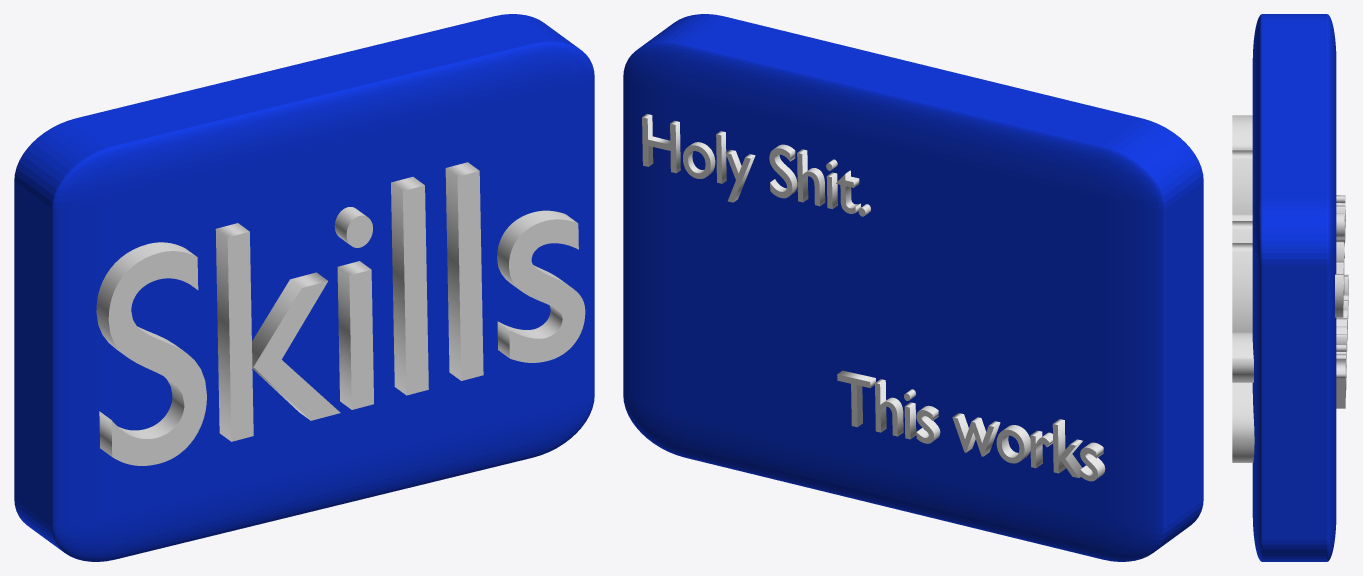
File: TestModel.glb
The picture shows the model from 3 angles, left to right: view 1: azimuth 30°, elevation 25°; view 2: azimuth 150°, elevation 25°; view 3: azimuth 270°, elevation 25°; orthographic projection. The views are drawn at different scales.
Parts seen in each view (by area): view 1: Cube, Text; view 2: Cube, Text.001; view 3: Cube, Text, Text.001.
Part boxes in pixels (<box>): Cube: <box>14,14,594,561</box>; Text: <box>96,162,585,465</box>; Cube: <box>623,14,1203,561</box>; Text.001: <box>642,114,1105,481</box>; Cube: <box>1252,14,1336,561</box>; Text: <box>1232,115,1254,462</box>; Text.001: <box>1335,195,1348,408</box>.
Size of the model in its own units: 412 by 301 by 88.79.
